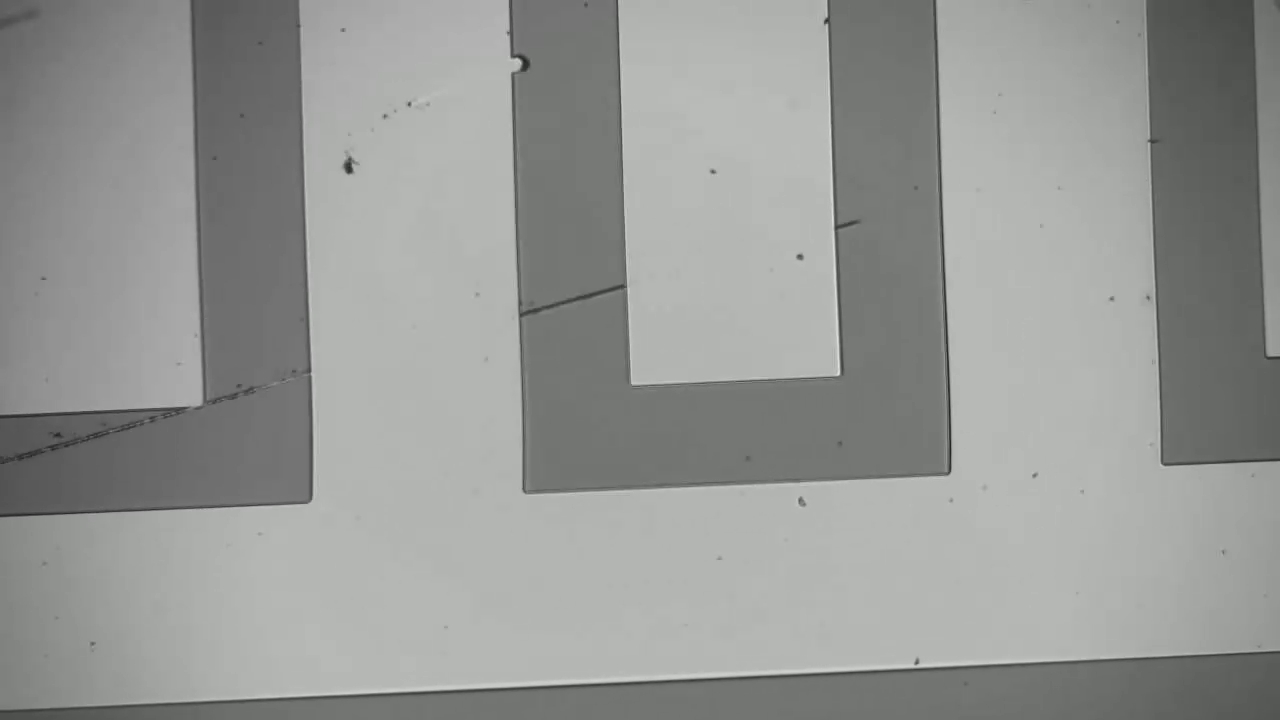scratch: (4, 371, 306, 458), (520, 279, 621, 316)
